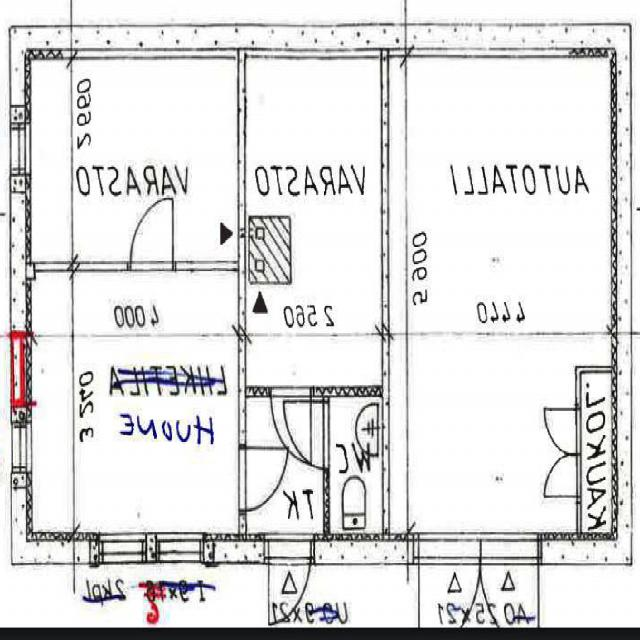door: (268, 533, 310, 629), (280, 400, 330, 468), (130, 193, 173, 270), (239, 447, 286, 510), (271, 386, 311, 457), (549, 452, 581, 496), (549, 409, 581, 452)
